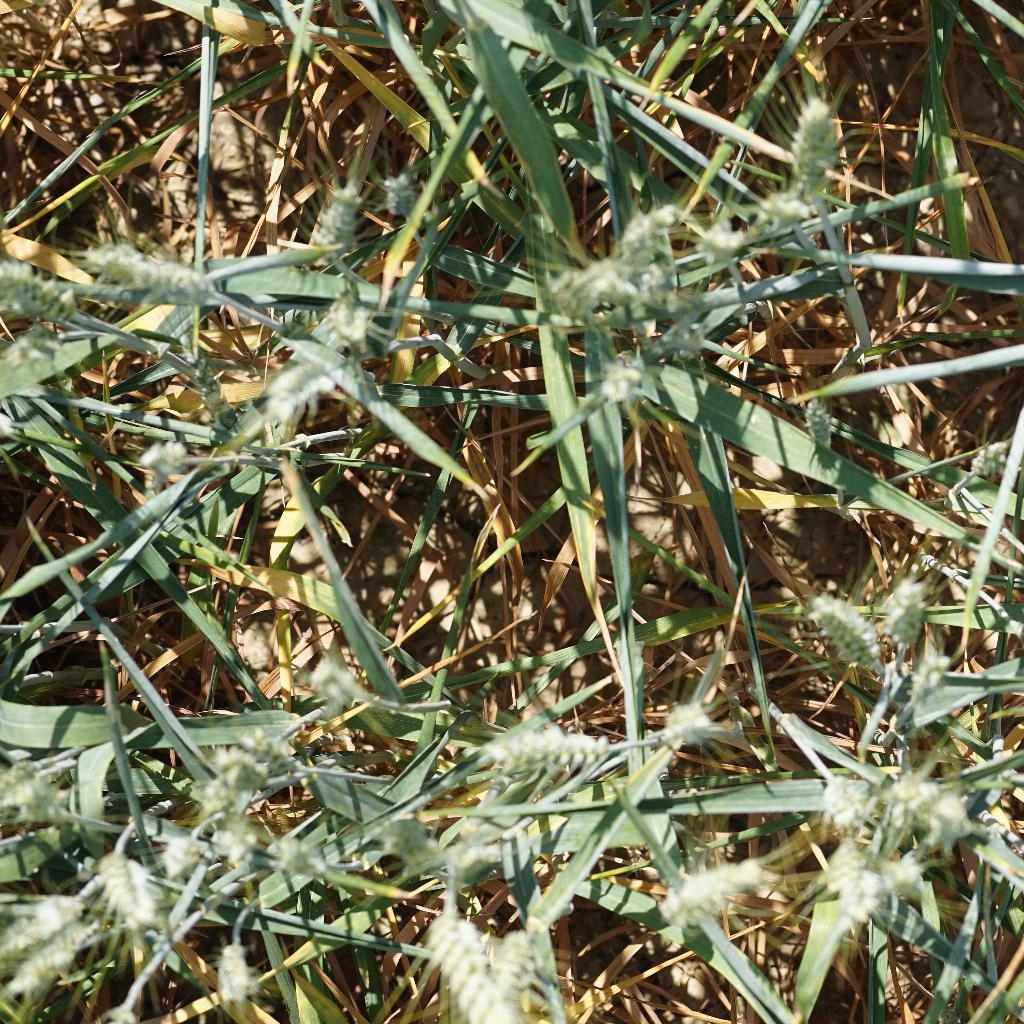0-0: (418, 894, 555, 1024), (0, 249, 120, 348), (72, 238, 229, 312), (459, 706, 616, 774), (3, 918, 124, 989), (650, 849, 772, 918), (78, 829, 160, 925), (538, 254, 647, 317), (253, 822, 351, 892), (774, 100, 849, 186), (0, 897, 103, 959), (179, 343, 245, 439), (889, 766, 972, 841), (306, 178, 373, 266), (814, 843, 886, 922), (0, 738, 73, 811), (605, 202, 686, 266), (747, 182, 819, 253), (811, 594, 882, 666), (946, 419, 1020, 488), (490, 912, 552, 993), (250, 358, 329, 421), (202, 926, 261, 1006), (881, 578, 942, 653), (292, 647, 362, 710), (381, 810, 443, 877), (200, 743, 279, 795), (234, 721, 309, 774), (367, 167, 430, 224), (668, 684, 731, 740), (591, 350, 654, 404), (897, 647, 956, 703), (821, 769, 873, 832), (314, 294, 376, 342), (687, 217, 750, 264), (130, 441, 187, 490), (212, 828, 264, 877), (793, 400, 848, 445), (160, 822, 202, 873)
